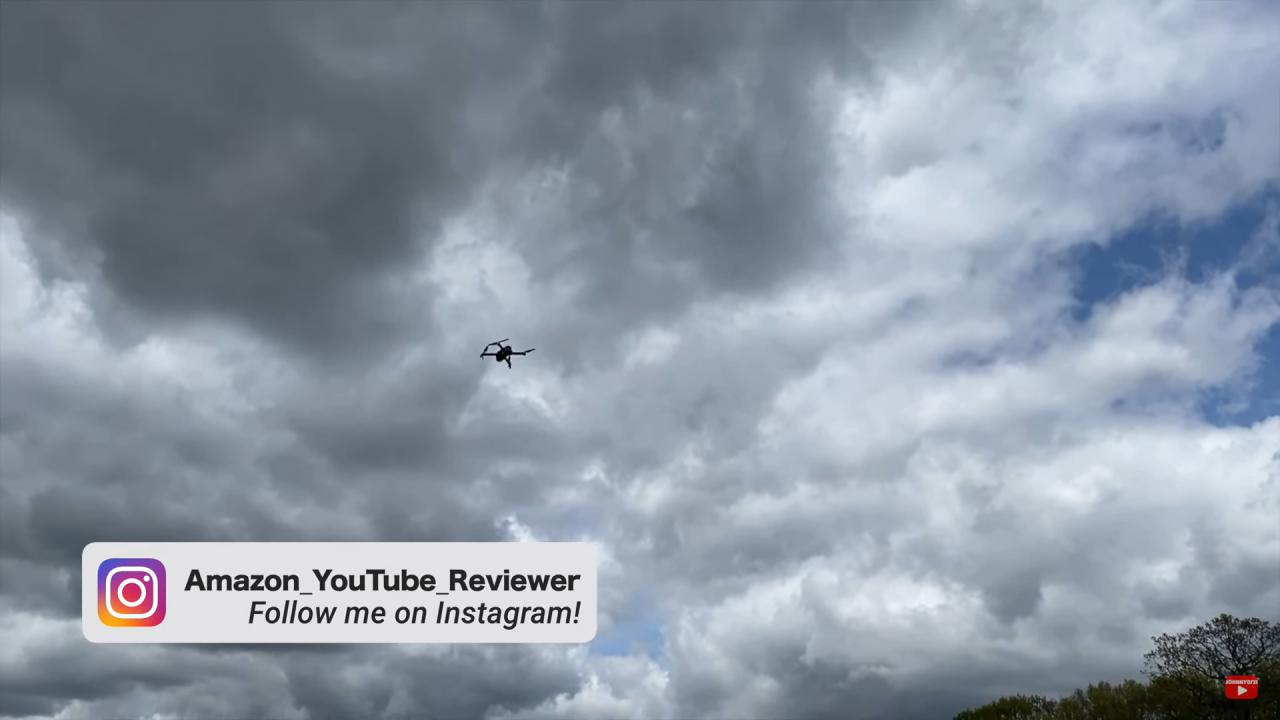Drone: (472, 331, 541, 377)
